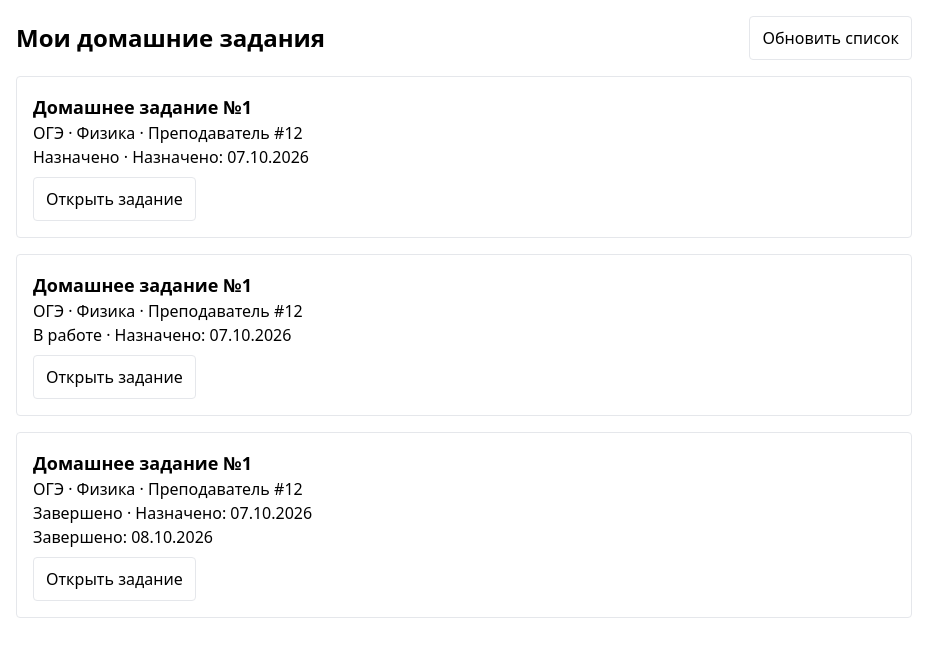
Scenario: shows all three statuses and empty homework without inventing tasks
The width and height of the screenshot is (929, 671).
Expected: the text "В работе · Назначено: 07.10.2026" is shown, [33,324,291,346]
Expected: the text "Завершено · Назначено: 07.10.2026" is shown, [33,502,312,524]
Step 1. Click the button "Открыть задание" below "В работе" → (114, 377), box [33,355,196,399]
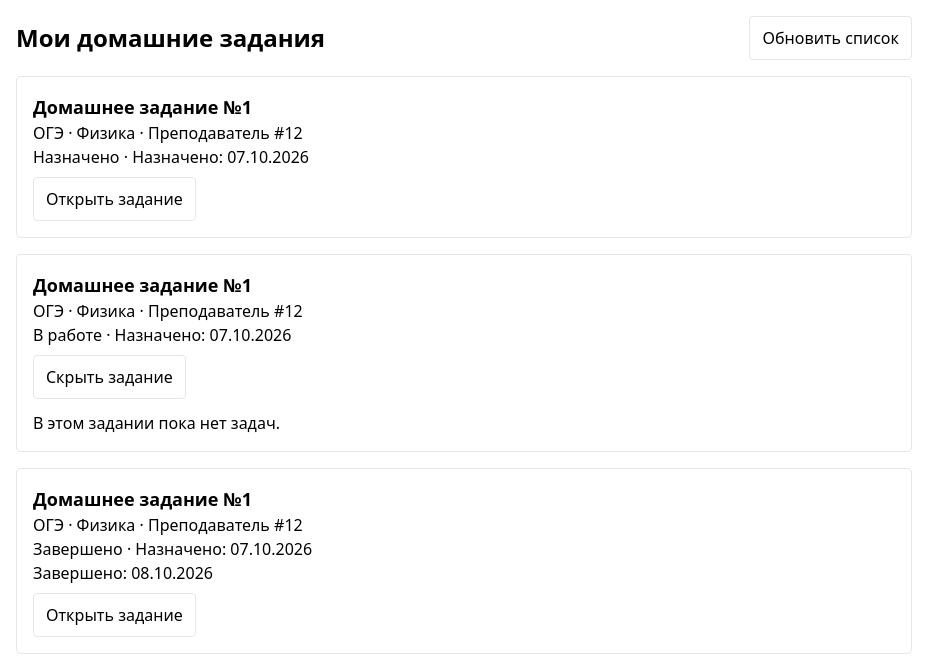
Now the text "В этом задании пока нет задач." is shown, box [33,412,280,434]
